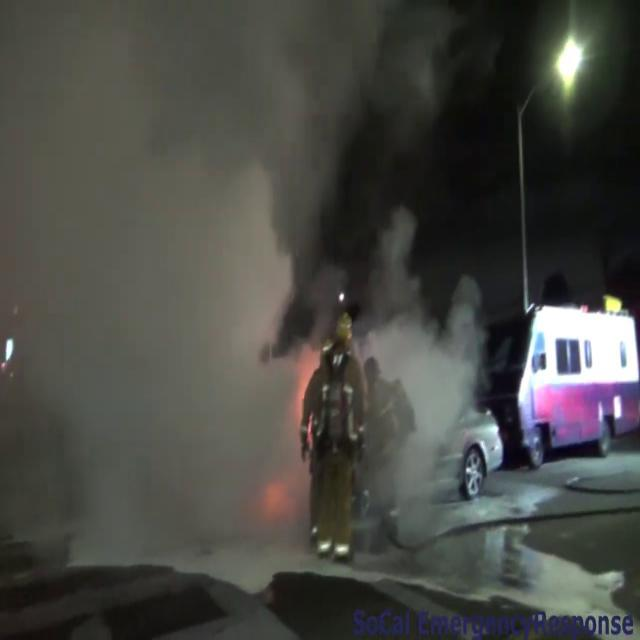Smoke: (0, 0, 354, 560), (343, 200, 487, 531)
